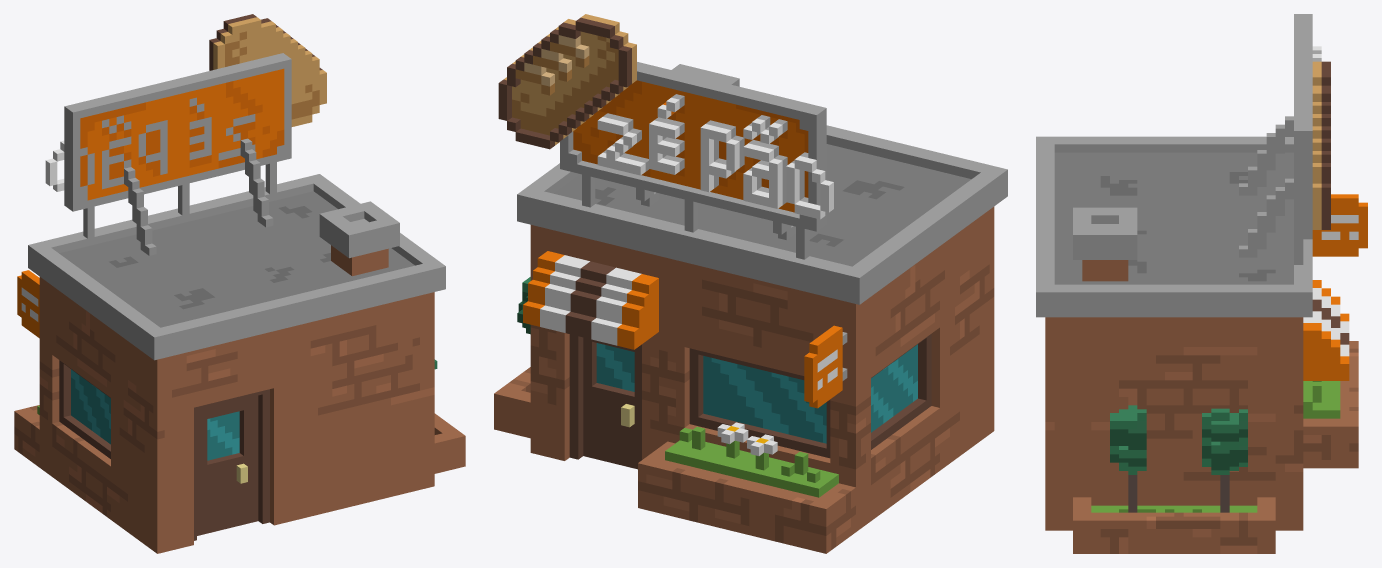
Rendered from zépão.obj.
The picture shows the model from 3 angles, left to right: view 1: azimuth 30°, elevation 25°; view 2: azimuth 150°, elevation 25°; view 3: azimuth 270°, elevation 25°; orthographic projection. The views are drawn at different scales.
Bounding box in the file's own units: 4.5 × 5.1 × 3.6.
Materials: 1 (1 with a texture image).
